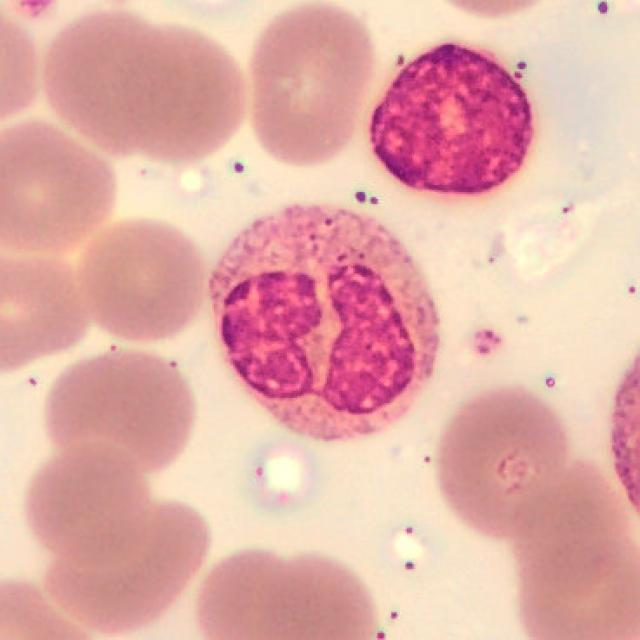Linfocito: (369, 43, 530, 195)
Neutrofilo segmentado: (209, 206, 442, 439)
